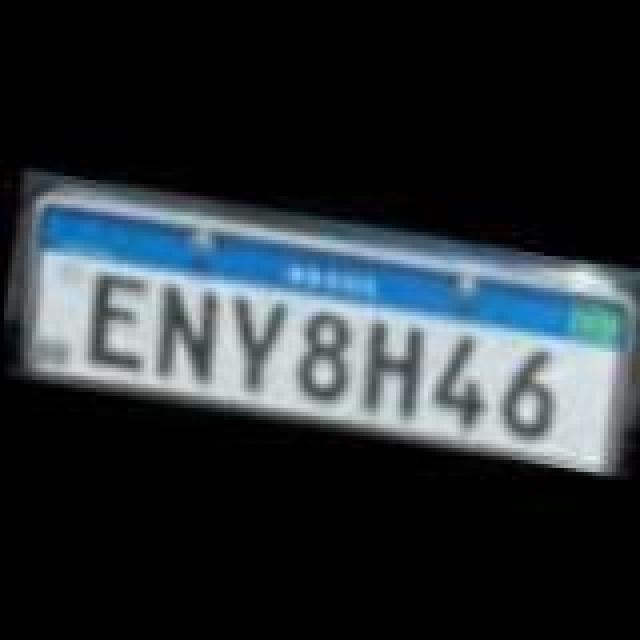4: (422, 324, 498, 428)
6: (490, 342, 562, 442)
8: (288, 302, 360, 406)
E: (78, 270, 154, 378)
H: (346, 312, 430, 424)
N: (144, 278, 224, 386)
Y: (216, 294, 288, 402)
